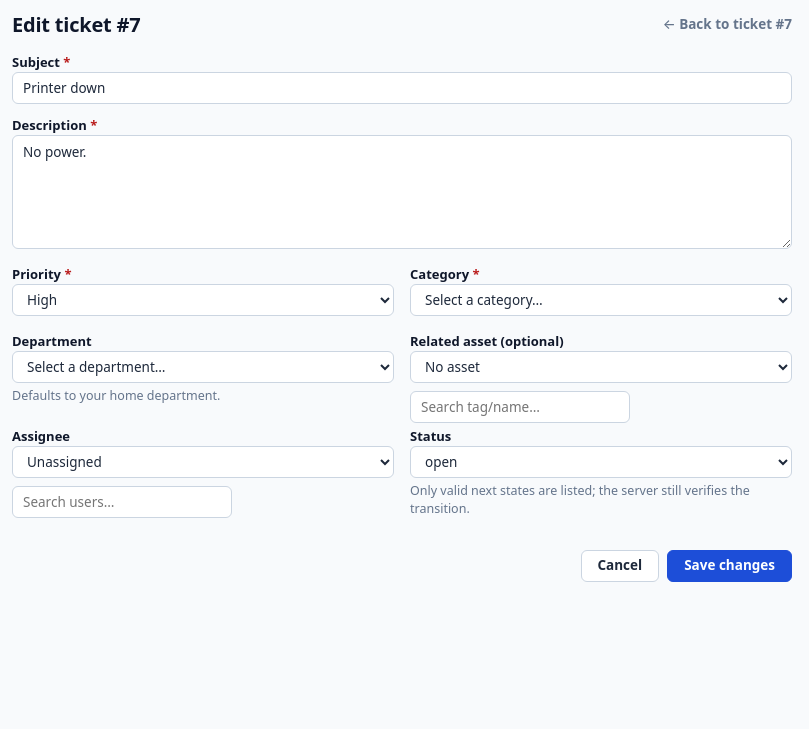
Test case: Ticket update — failed › shows meaningful error from backend validation
Expected: the heading "Edit ticket #7" is shown, [12,12,141,37]
Step 1. Select "closed" in the dropdown labelled "Status" → coordinates (601, 462), box [410,446,792,478]
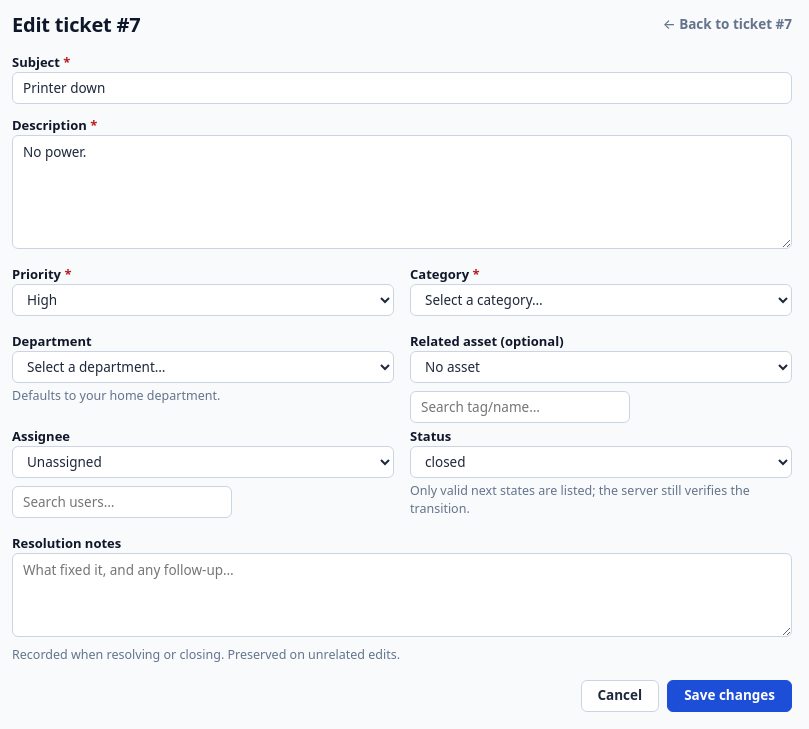
Step 2. Click the button "Save changes" → coordinates (730, 696), box [667,680,792,712]
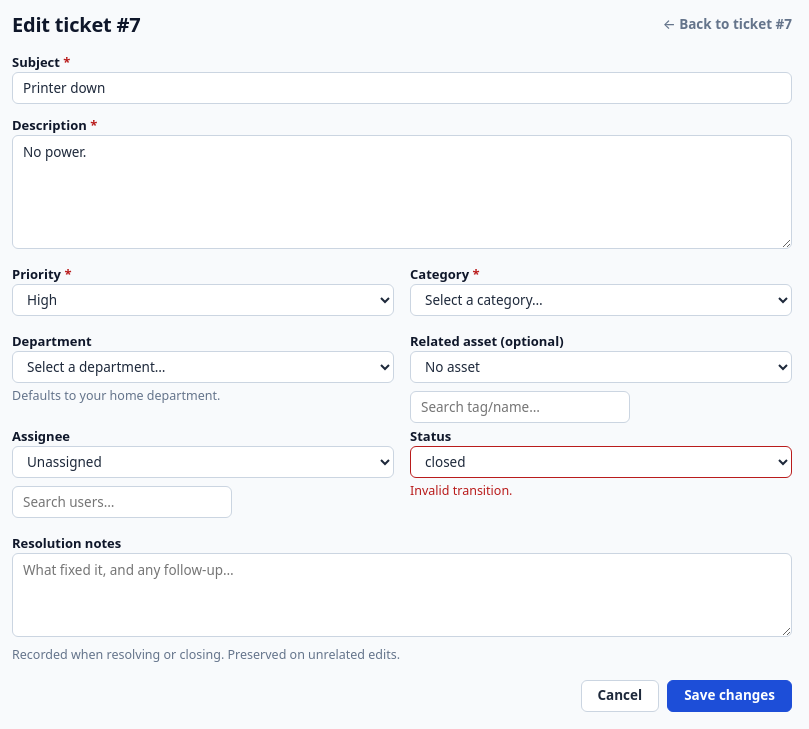
Now the text "Invalid transition." is shown, box [410,482,512,499]
